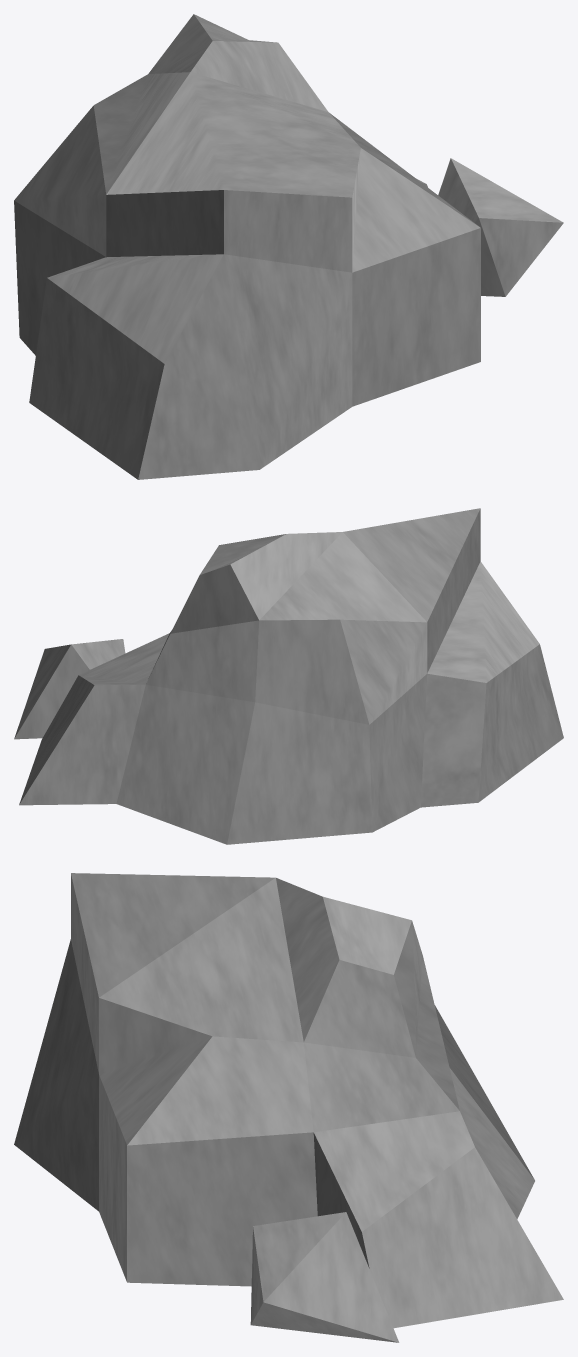
The model's file is real_stone_3.fbx.
The picture shows the model from 3 angles, top to bottom: view 1: azimuth 30°, elevation 25°; view 2: azimuth 150°, elevation 25°; view 3: azimuth 270°, elevation 25°; orthographic projection. The views are drawn at different scales.
Parts seen in each view (by area): view 1: Stone_5; view 2: Stone_5; view 3: Stone_5.
Part boxes in pixels (x1,y1,x2,y2): Stone_5: (14,14,563,479); Stone_5: (14,508,563,844); Stone_5: (14,873,563,1342).
Bounding box in the file's own units: 451 × 238 × 396.
1 material, 1 textured.
